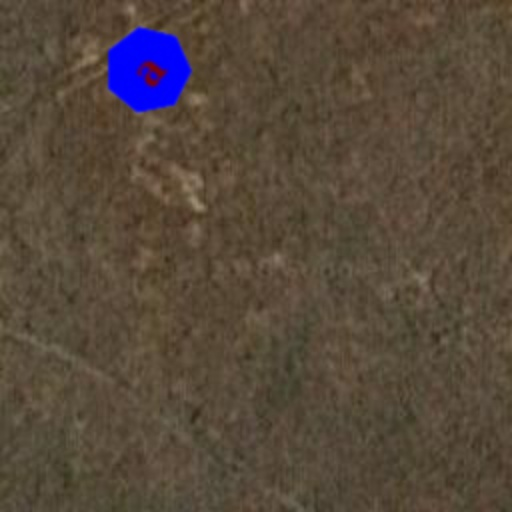heptagon: (84, 6, 212, 134)
